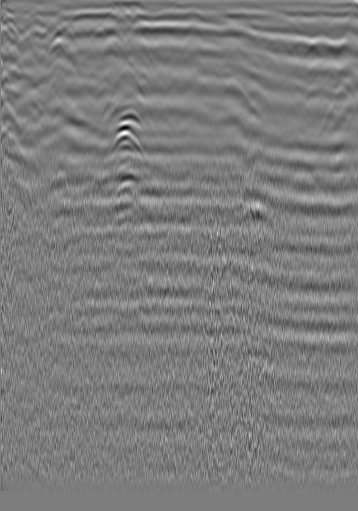가스: (104, 125, 143, 160)
상수: (26, 16, 46, 36)
오수: (292, 19, 312, 39)
우수: (156, 23, 176, 43)
